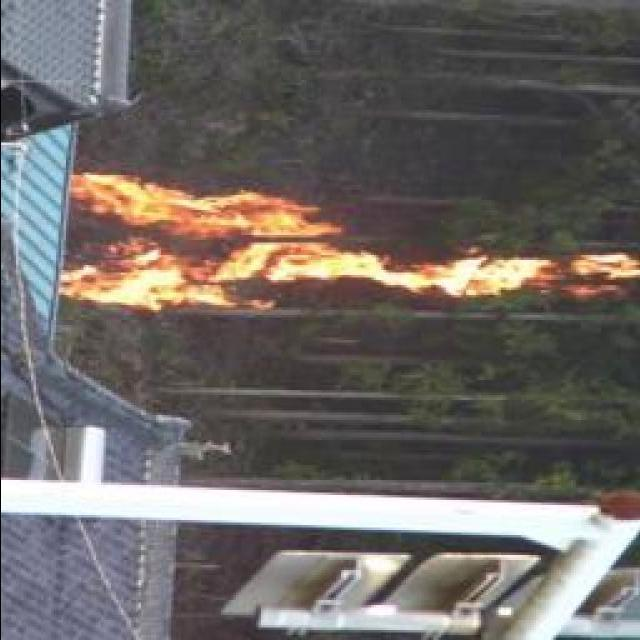Fire: (62, 172, 637, 314)
